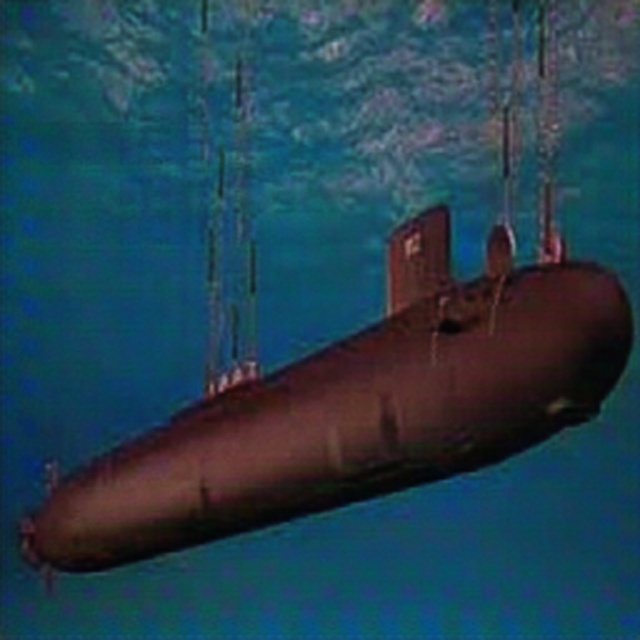submarine: (20, 198, 638, 593)
